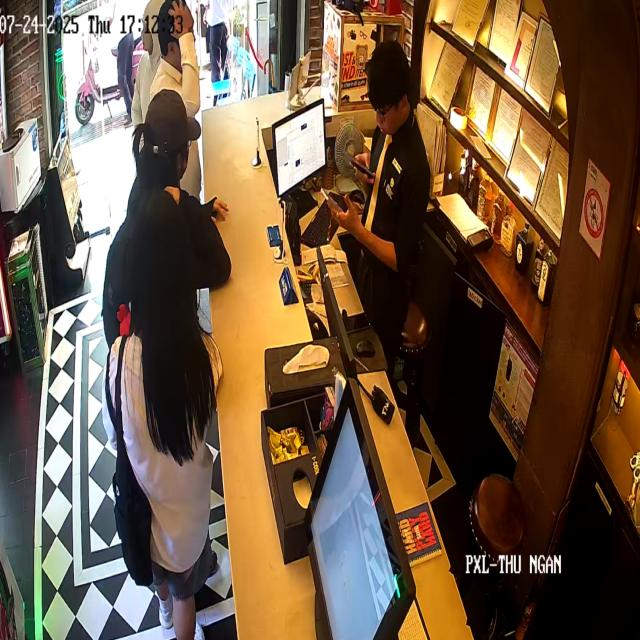khach: (129, 228, 201, 640), (123, 90, 232, 278), (154, 16, 220, 173)
nhan vien: (354, 46, 426, 318)
